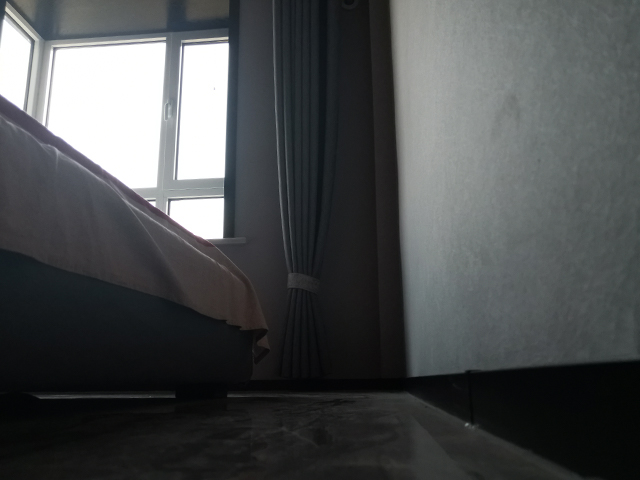bed: (1, 94, 272, 405)
curtain: (270, 1, 336, 382)
